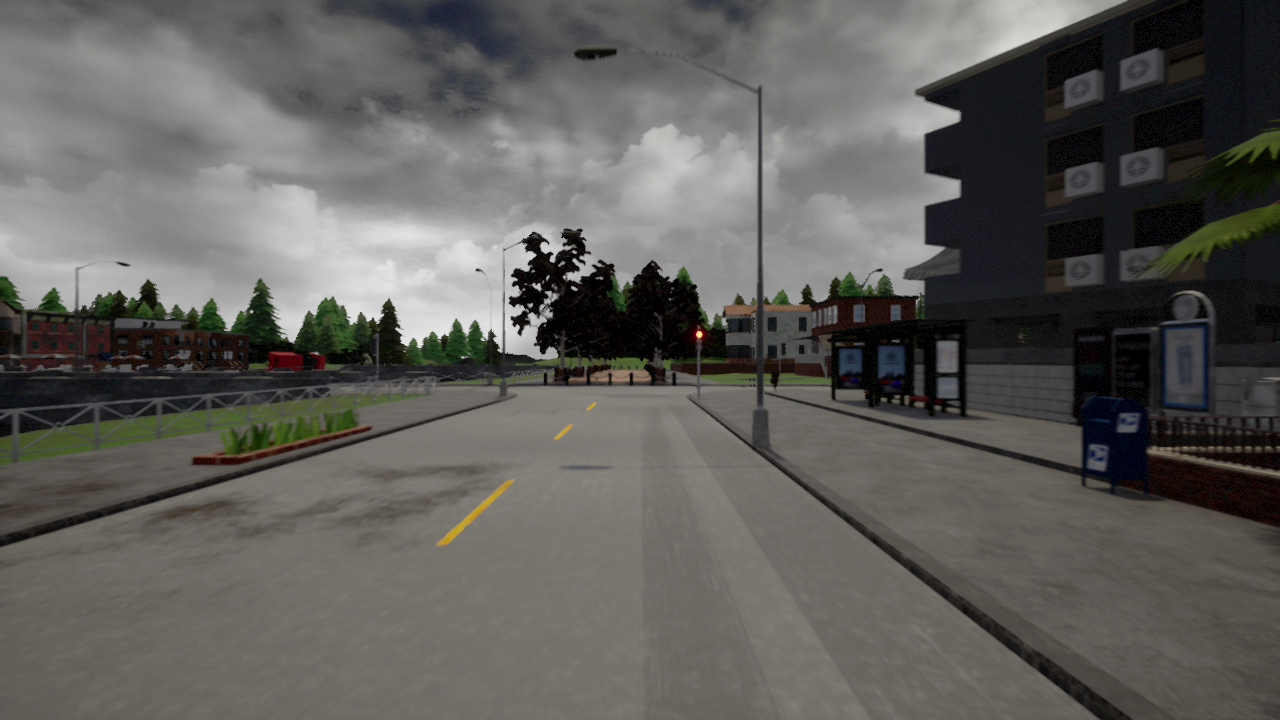red: (695, 330, 704, 351)
